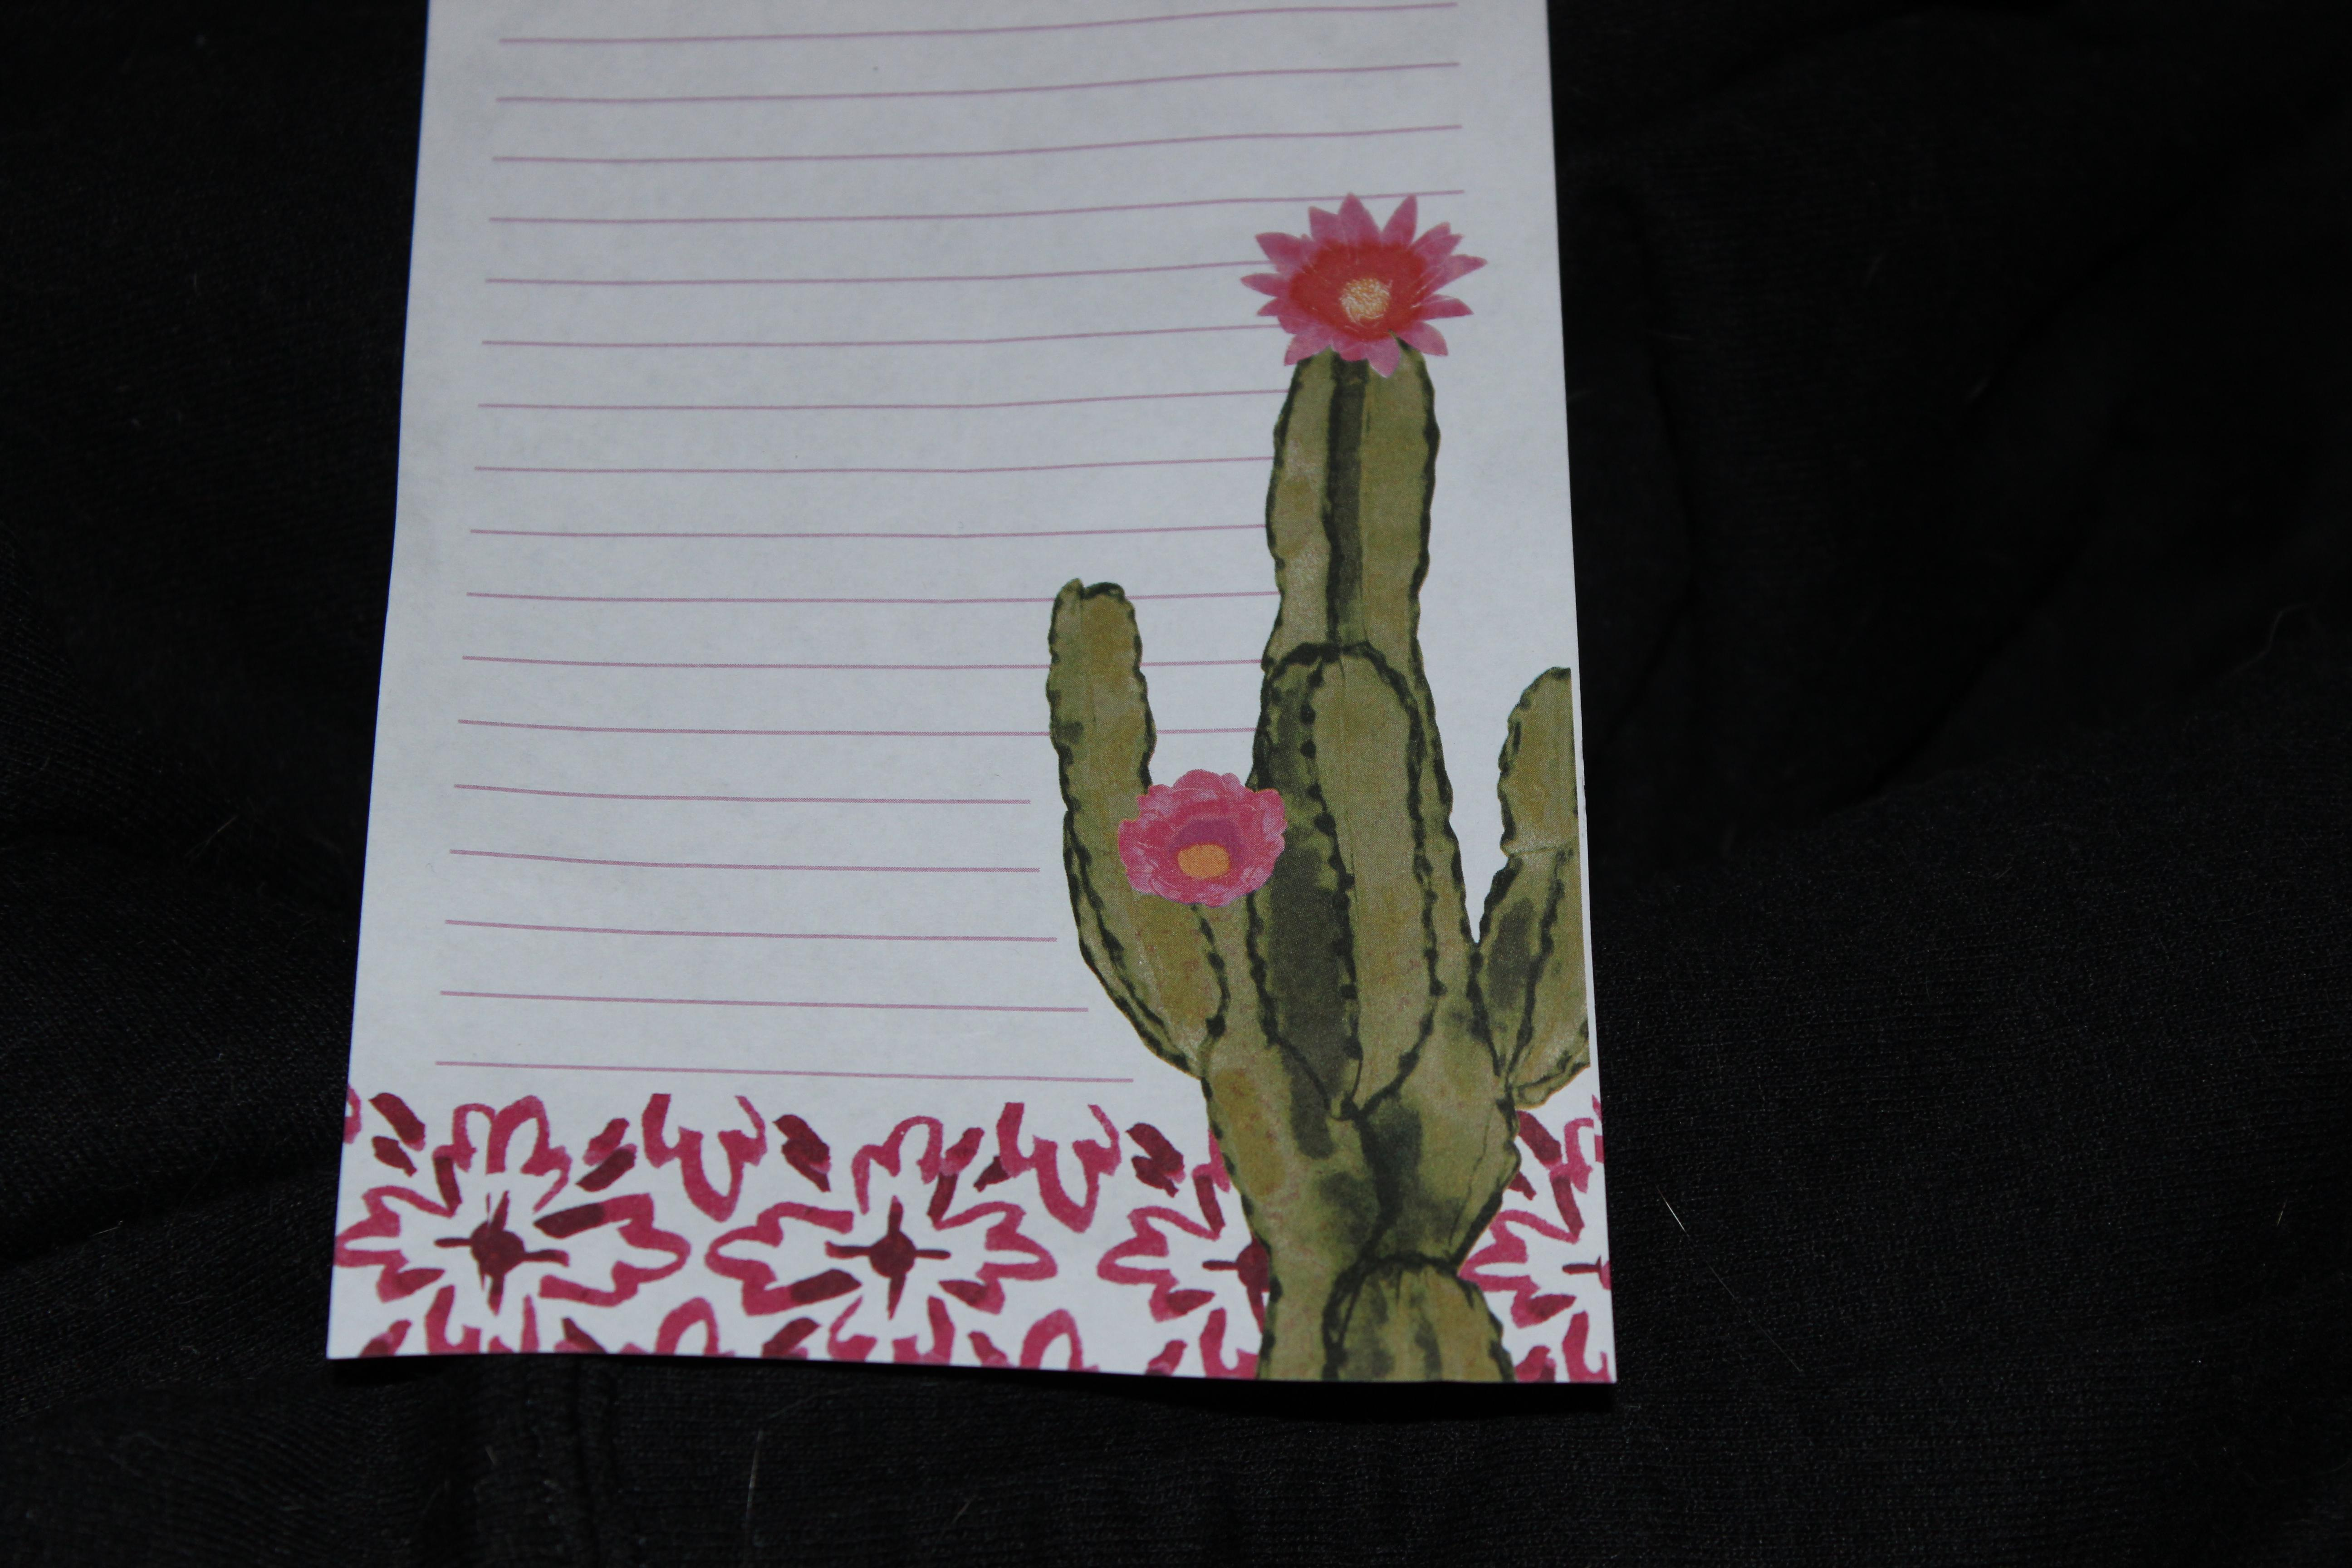cactusPaper: (303, 0, 1641, 1411)
